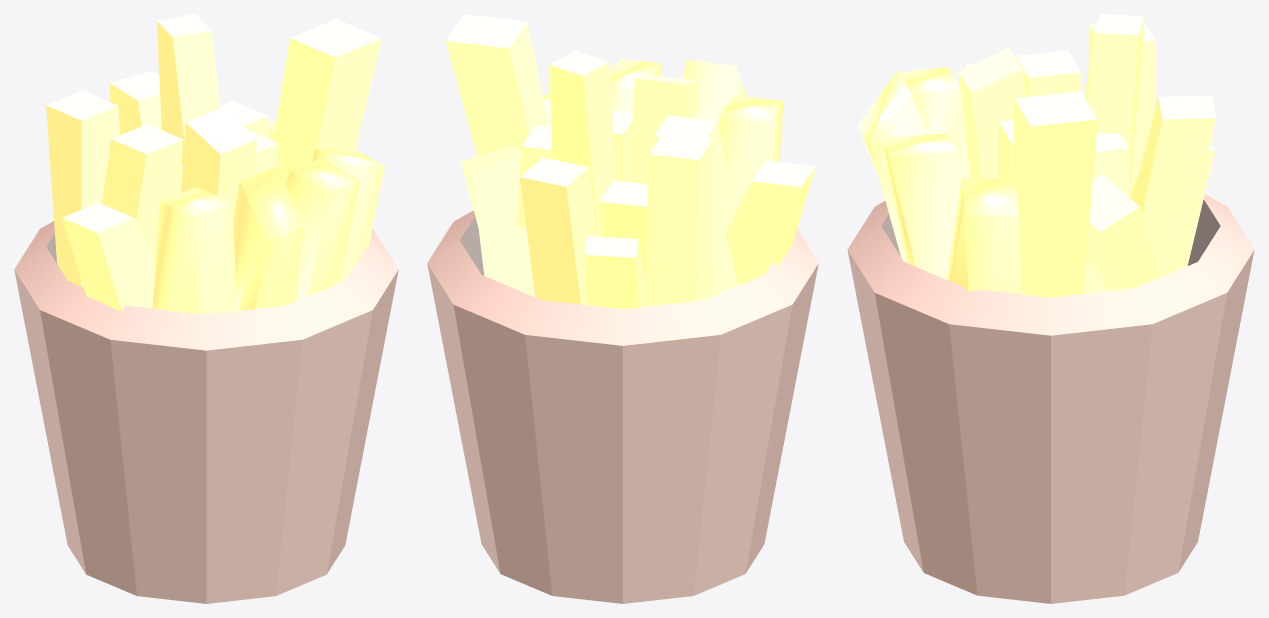
Rendered from Chips.fbx.
3 views of the same model, side by side, from view 1: azimuth 30°, elevation 25°; view 2: azimuth 150°, elevation 25°; view 3: azimuth 270°, elevation 25° (orthographic). The views are drawn at different scales.
Visible parts, largest first — view 1: pDisc1, pPlane1; view 2: pDisc1, pPlane1; view 3: pDisc1, pPlane1.
Boxes of the visible parts, bbox=[...] form: pDisc1: bbox=[14, 221, 398, 603]; pPlane1: bbox=[46, 14, 384, 314]; pDisc1: bbox=[427, 210, 818, 603]; pPlane1: bbox=[445, 14, 815, 309]; pDisc1: bbox=[847, 194, 1254, 603]; pPlane1: bbox=[857, 14, 1215, 297].
Size of the model in its own units: 15.71 by 22.25 by 15.71.
